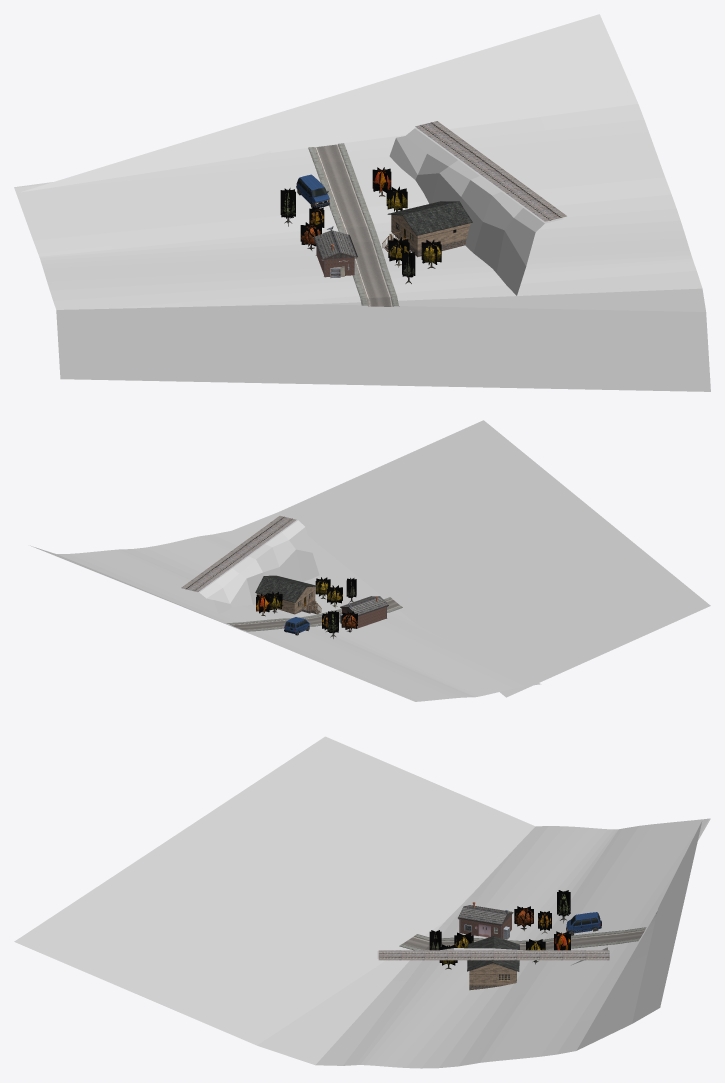
Rendered from city_demo1.glb.
The picture shows the model from 3 angles, top to bottom: view 1: azimuth 30°, elevation 25°; view 2: azimuth 150°, elevation 25°; view 3: azimuth 270°, elevation 25°; orthographic projection. The views are drawn at different scales.
Parts seen in each view (by area): view 1: Ground.001, Hill.001, Road.001, House.001, TrainTrack.001, SideWalk.001, building_01_roof, SideWalk.002, Car.004; view 2: Ground.001, Hill.001, TrainTrack.001, House.001, Road.001, building_01_roof; view 3: Ground.001, TrainTrack.001, House.001, Road.001, building_01_roof, Car.004.
Part boxes in pixels (bbox=[...]): Ground.001: bbox=[14, 14, 710, 391]; Hill.001: bbox=[389, 128, 563, 295]; Road.001: bbox=[314, 144, 393, 306]; House.001: bbox=[382, 201, 472, 257]; TrainTrack.001: bbox=[415, 121, 566, 221]; SideWalk.001: bbox=[338, 143, 399, 306]; building_01_roof: bbox=[314, 230, 356, 259]; SideWalk.002: bbox=[308, 147, 368, 305]; Car.004: bbox=[296, 174, 329, 208]; Ground.001: bbox=[30, 420, 710, 701]; Hill.001: bbox=[198, 520, 319, 613]; TrainTrack.001: bbox=[181, 515, 296, 591]; House.001: bbox=[255, 575, 321, 614]; Road.001: bbox=[230, 599, 400, 630]; building_01_roof: bbox=[340, 596, 387, 615]; Ground.001: bbox=[14, 736, 710, 1068]; TrainTrack.001: bbox=[378, 950, 609, 960]; House.001: bbox=[467, 936, 519, 990]; Road.001: bbox=[403, 930, 644, 950]; building_01_roof: bbox=[458, 905, 513, 924]; Car.004: bbox=[566, 912, 601, 935].
Bounding box in the file's own units: 129 × 18.58 × 121.
33 materials, 33 textured.
